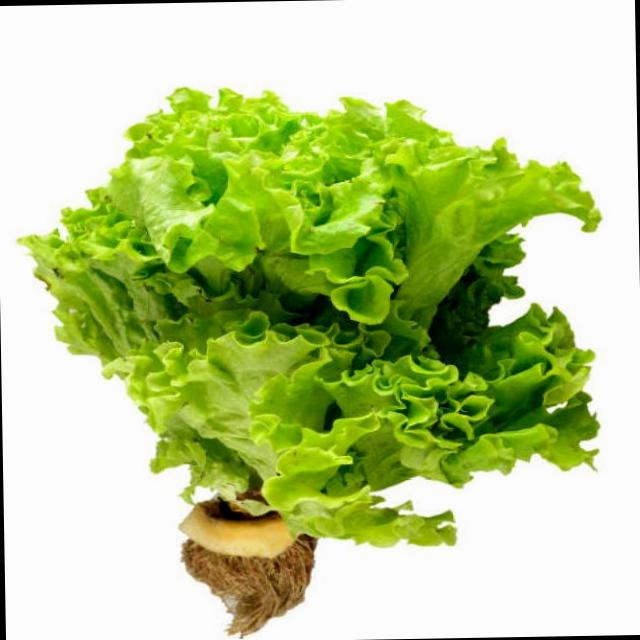Lettuce-Ready-to-Harvest: (16, 86, 601, 550)
